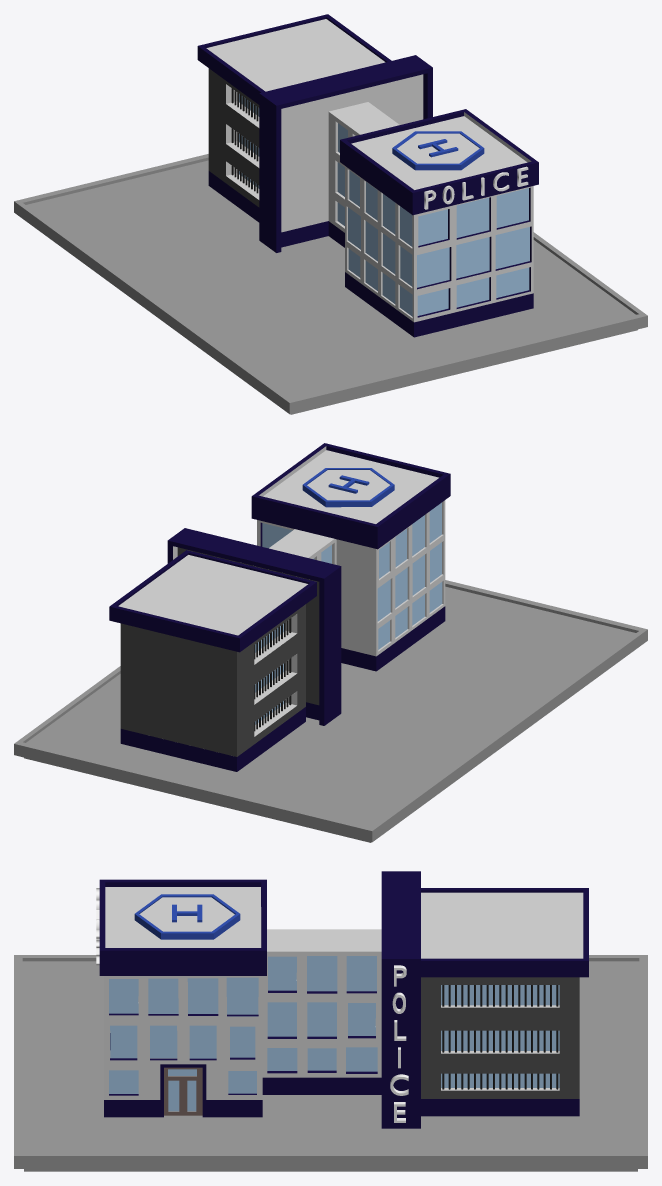
File: stylized_police_station_lowpoly-compressed.glb
3 views of the same model, one above another, from view 1: azimuth 30°, elevation 25°; view 2: azimuth 150°, elevation 25°; view 3: azimuth 270°, elevation 25° (orthographic). The views are drawn at different scales.
Parts seen in each view (by area): view 1: Cube_0, Cube001_11, Circle_1, Text003_12; view 2: Cube_0, Cube001_11, Circle_1; view 3: Cube_0, Cube001_11, Circle_1, Cylinder_4, Cylinder002_6, Text_2, Cylinder001_5.
Part boxes in pixels (left/top/right/bottom): Cube_0: left=197, top=14, right=538, bottom=337; Cube001_11: left=14, top=154, right=647, bottom=414; Circle_1: left=392, top=131, right=484, bottom=170; Text003_12: left=424, top=166, right=528, bottom=209; Cube_0: left=109, top=443, right=450, bottom=771; Cube001_11: left=14, top=580, right=647, bottom=842; Circle_1: left=302, top=468, right=394, bottom=507; Cube_0: left=99, top=871, right=588, bottom=1128; Cube001_11: left=14, top=955, right=647, bottom=1171; Circle_1: left=134, top=894, right=240, bottom=939; Cylinder_4: left=442, top=1030, right=558, bottom=1052; Cylinder002_6: left=442, top=985, right=558, bottom=1006; Text_2: left=390, top=965, right=408, bottom=1122; Cylinder001_5: left=442, top=1073, right=558, bottom=1089.
Bounding box in the file's own units: 9 × 4.03 × 12.
